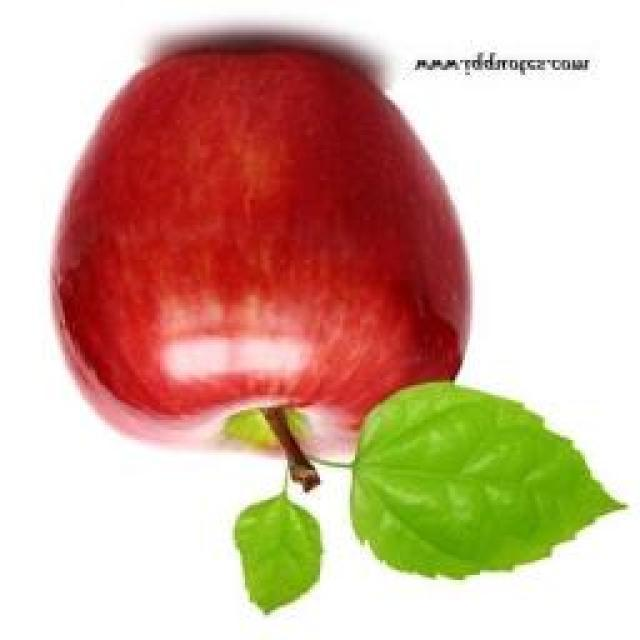Apple: (52, 35, 470, 489)
